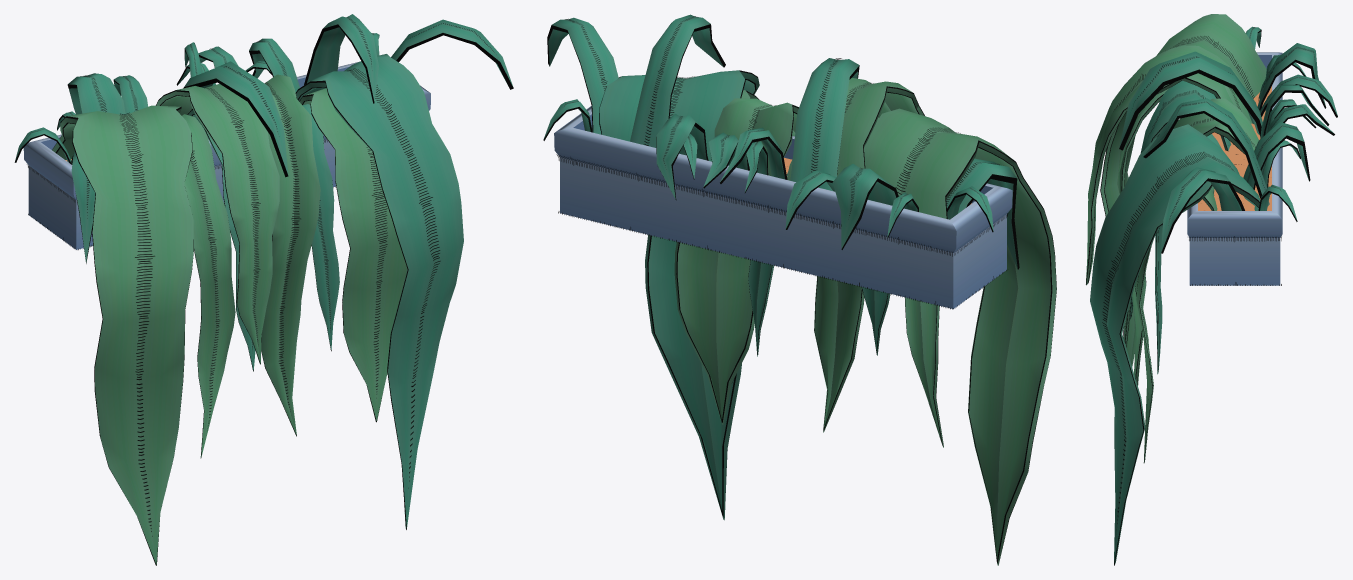
File: pm-flower-pot-large-03.glb
3 renders of one model, left to right at view 1: azimuth 30°, elevation 25°; view 2: azimuth 150°, elevation 25°; view 3: azimuth 270°, elevation 25°, orthographic. The views are drawn at different scales.
Parts seen in each view (by area): view 1: FlowerPot_Large_03; view 2: FlowerPot_Large_03; view 3: FlowerPot_Large_03.
Boxes of the visible parts, <box> form: FlowerPot_Large_03: <box>14,14,513,565</box>; FlowerPot_Large_03: <box>543,14,1056,565</box>; FlowerPot_Large_03: <box>1086,14,1337,565</box>.
Size of the model in its own units: 4.35 by 4.47 by 2.23.
Materials: 3 (3 with a texture image).
